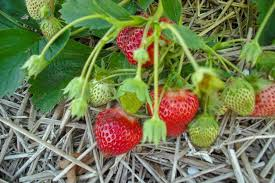ripe: (113, 14, 177, 69), (147, 85, 197, 140)
unripe: (92, 108, 140, 159), (221, 76, 257, 116), (185, 110, 219, 147), (115, 78, 149, 112), (86, 76, 116, 107), (252, 82, 273, 120), (24, 1, 60, 21), (39, 16, 62, 38)
